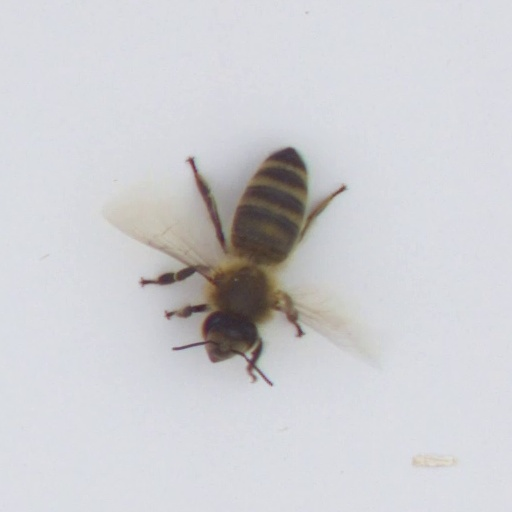Bee: (184, 132, 334, 380)
Thorax: (204, 261, 277, 320)
